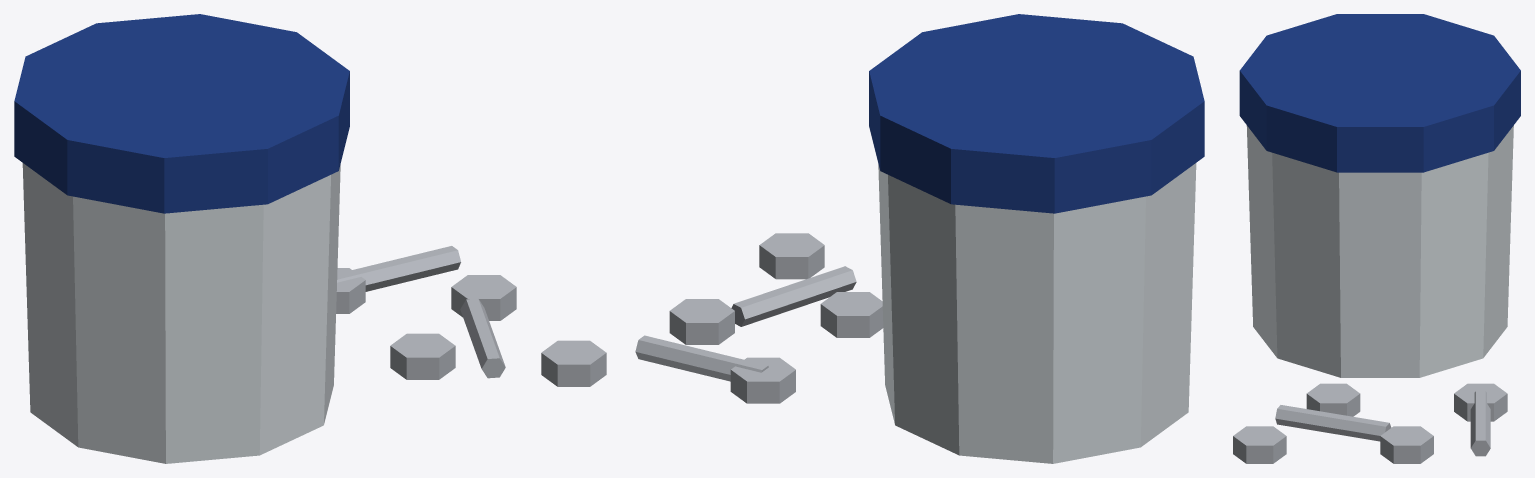
File: bolts.glb
The picture shows the model from 3 angles, left to right: view 1: azimuth 30°, elevation 25°; view 2: azimuth 150°, elevation 25°; view 3: azimuth 270°, elevation 25°; orthographic projection. The views are drawn at different scales.
Visible parts, largest first — view 1: bolts; view 2: bolts; view 3: bolts.
Part boxes in pixels (x1,y1,x2,y2): bolts: (14,14,606,463); bolts: (635,14,1204,463); bolts: (1233,14,1520,463).
Size of the model in its own units: 0.1369 by 0.0845 by 0.086.
